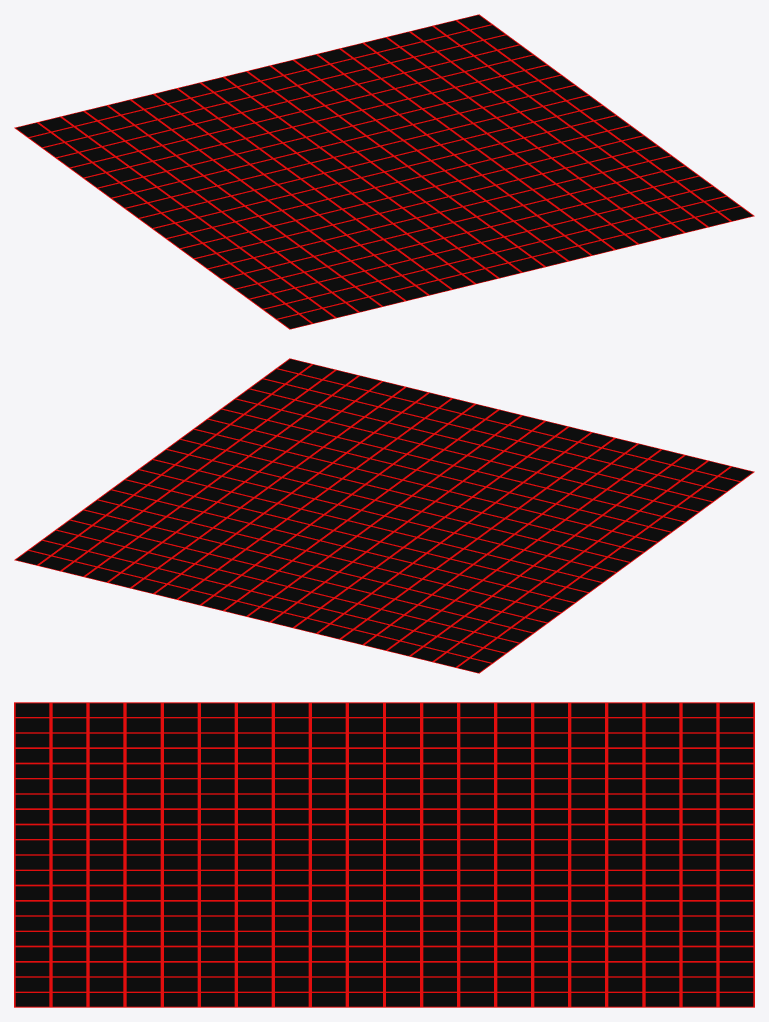
The model's file is Smaller Square Grid Floor.FBX.
3 renders of one model, top to bottom at view 1: azimuth 30°, elevation 25°; view 2: azimuth 150°, elevation 25°; view 3: azimuth 270°, elevation 25°, orthographic. The views are drawn at different scales.
Parts seen in each view (by area): view 1: Wider Grid Floor; view 2: Wider Grid Floor; view 3: Wider Grid Floor.
Boxes of the visible parts, bbox=[...] form: Wider Grid Floor: bbox=[14, 14, 754, 329]; Wider Grid Floor: bbox=[14, 358, 754, 673]; Wider Grid Floor: bbox=[14, 702, 754, 1007].
Bounding box in the file's own units: 1823 × 1.14e-13 × 1871.
